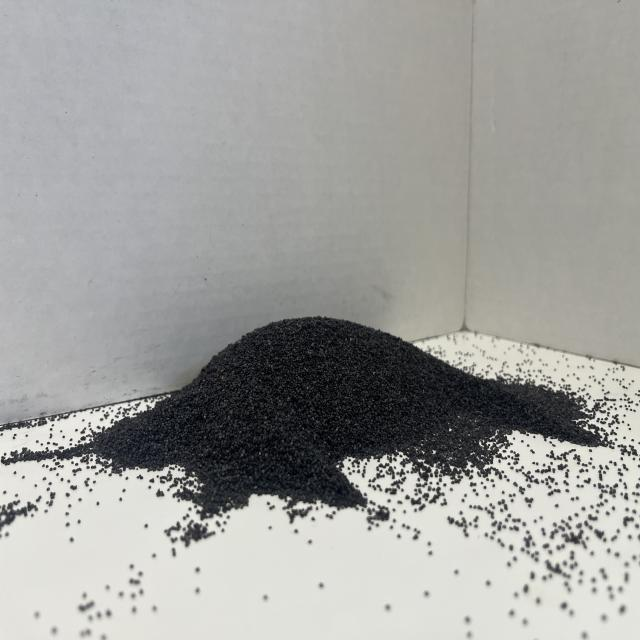Poppy Seeds: (106, 271, 522, 524)
